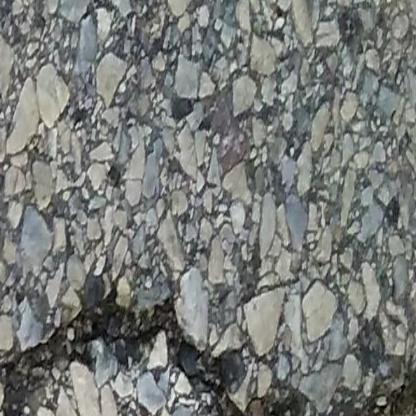Cracks: (0, 285, 416, 416)
